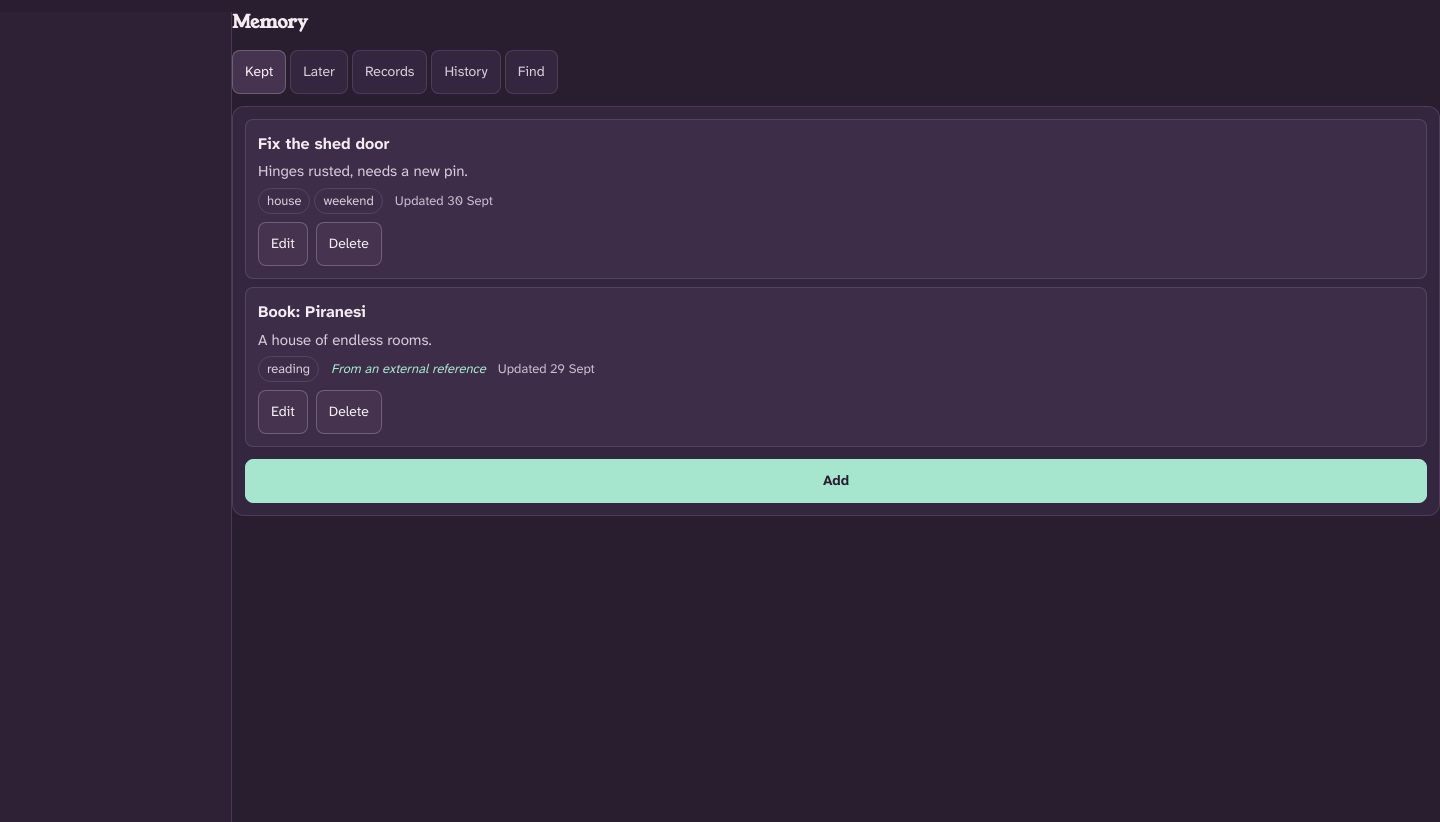
Test: Memory lists › Records lists what the API returned, in the returned order
Step 1. Click the tab "Records" → (390, 72), box [352, 50, 427, 94]
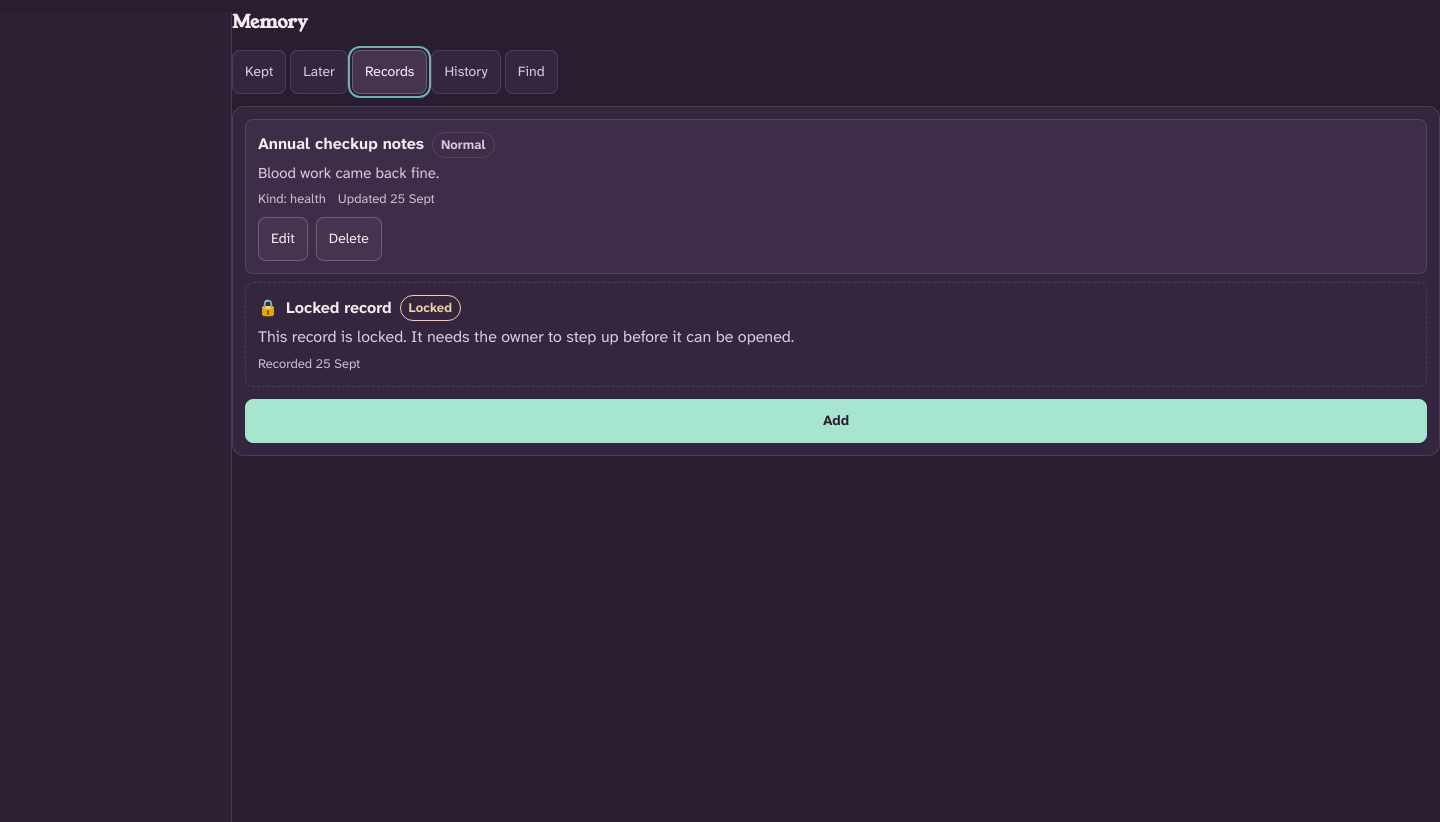
Check: the text "Annual checkup notes" is shown, box [258, 132, 424, 157]
Check: the text "Locked record" is shown, box [286, 296, 392, 321]
